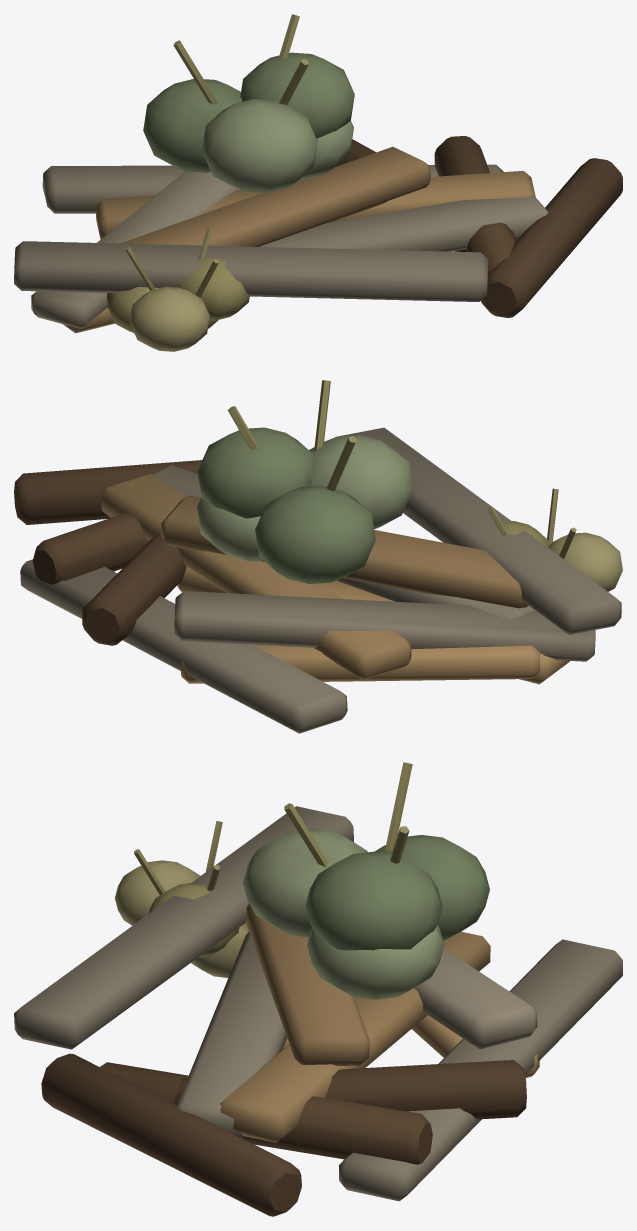
The model's file is timber_lagging_c.glb.
The picture shows the model from 3 angles, top to bottom: view 1: azimuth 30°, elevation 25°; view 2: azimuth 150°, elevation 25°; view 3: azimuth 270°, elevation 25°; orthographic projection. The views are drawn at different scales.
Visible parts, largest first — view 1: Surface; view 2: Surface; view 3: Surface.
Boxes of the visible parts, x1,y1,x2,y2 form: Surface: (14, 14, 622, 351); Surface: (14, 380, 622, 733); Surface: (14, 762, 622, 1216).
Bounding box in the file's own units: 3.59 × 1.31 × 2.75.
